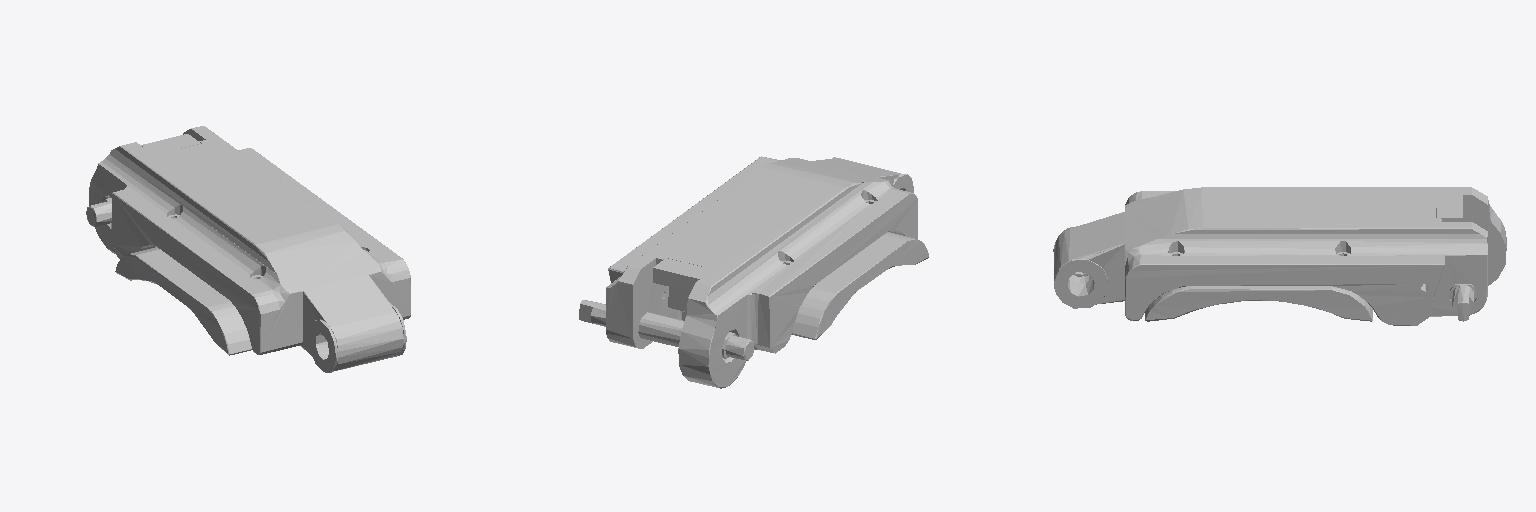
File: r_proximal.obj
3 renders of one model, left to right at view 1: azimuth 30°, elevation 25°; view 2: azimuth 150°, elevation 25°; view 3: azimuth 270°, elevation 25°, orthographic.
Size of the model in its own units: 0.04 by 0.02 by 0.0831.